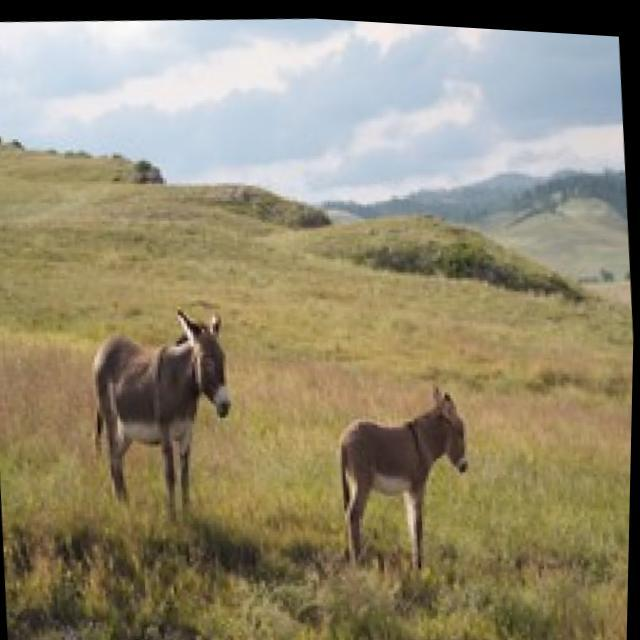Donkey: (84, 296, 242, 527), (331, 371, 478, 572)
